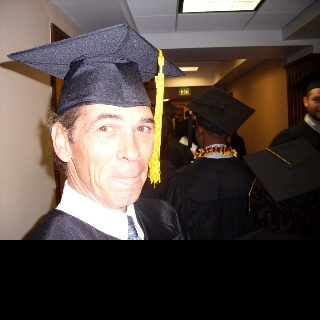without_mask: (71, 104, 154, 207), (308, 89, 320, 121)
